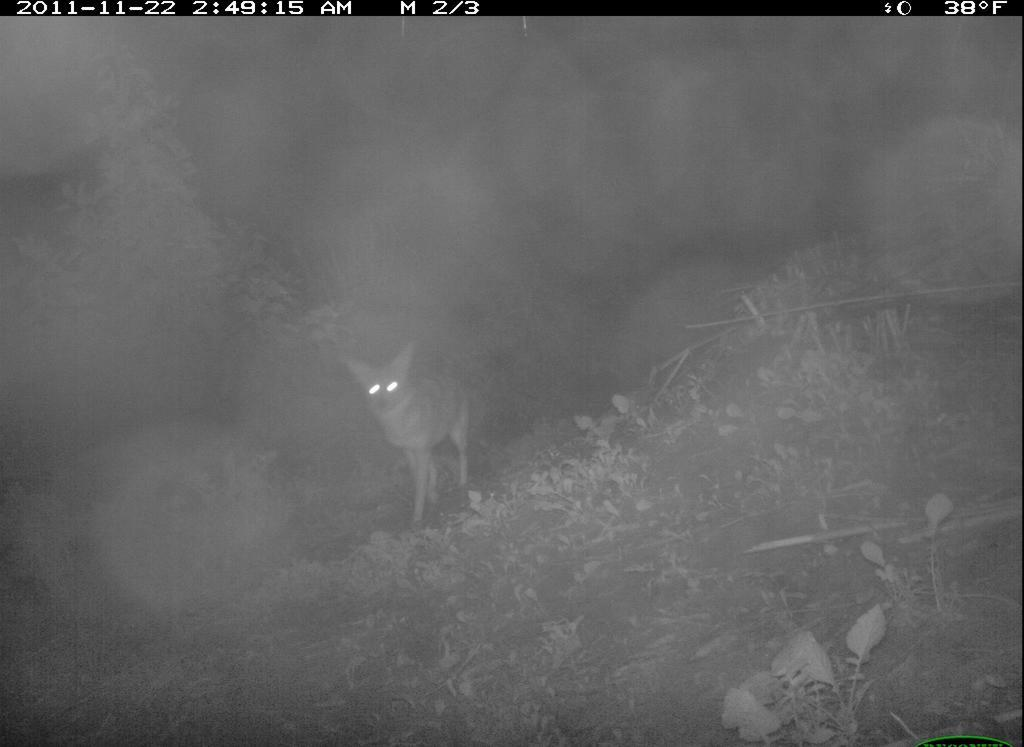coyote: (332, 335, 491, 541)
